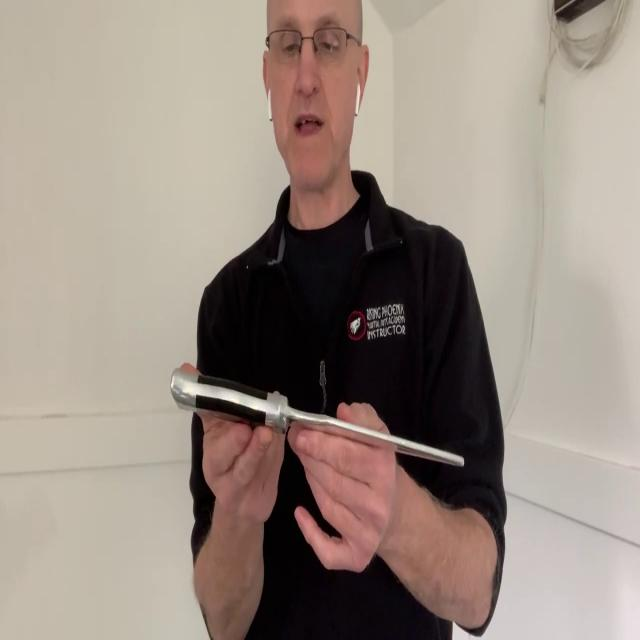Knife_Handle: (170, 367, 465, 575)
